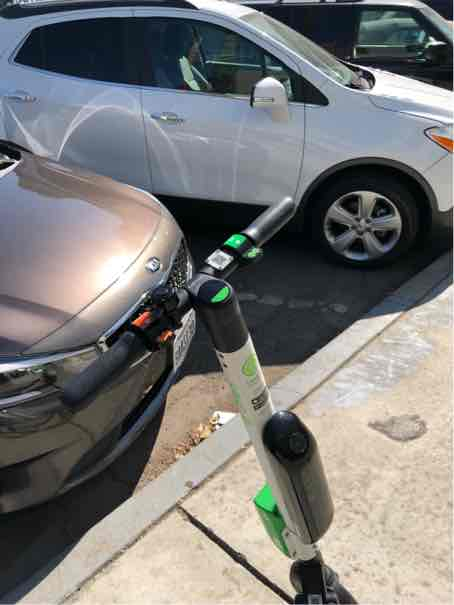scooter: (58, 190, 362, 605)
